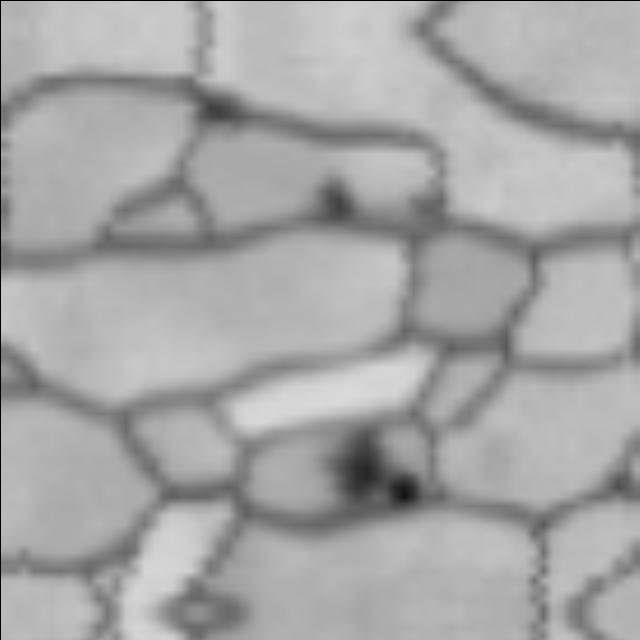good_void: (311, 422, 426, 517), (296, 169, 372, 233), (186, 81, 259, 142)
